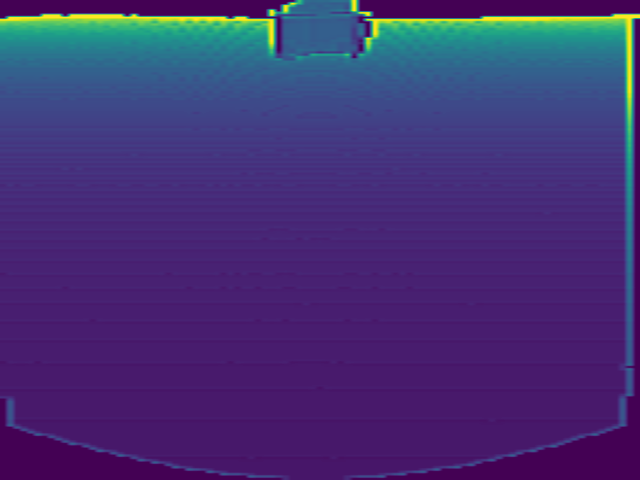car_0027: (268, 1, 376, 59)
